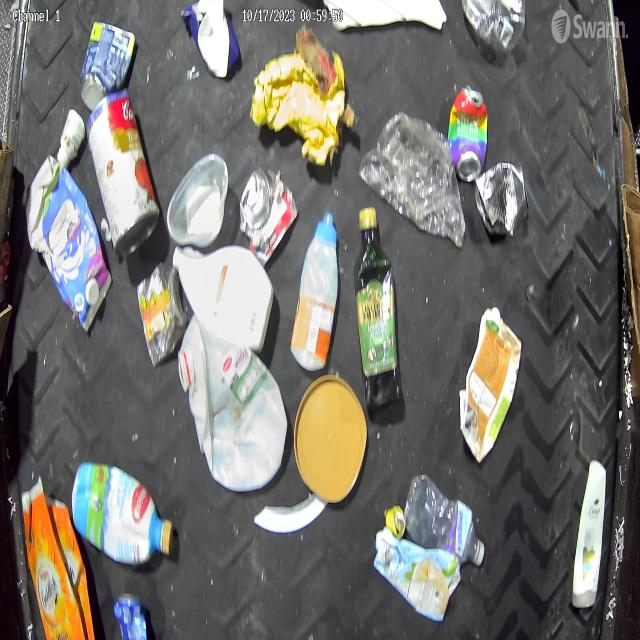can: (85, 89, 162, 254), (238, 169, 299, 267), (137, 259, 184, 367), (80, 21, 135, 110), (448, 86, 491, 182), (476, 161, 529, 237), (112, 591, 150, 640)
milk_jug: (179, 314, 287, 490)
non_white_jug: (28, 156, 110, 332), (20, 476, 95, 640), (172, 245, 275, 351), (72, 462, 174, 566), (459, 307, 522, 465), (374, 526, 461, 620), (572, 460, 606, 608)
plastic_bottle: (405, 474, 486, 569)
